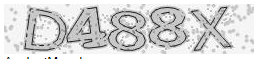4: (66, 6, 108, 53)
8: (107, 9, 148, 53), (147, 6, 188, 50)
D: (23, 6, 67, 53)
X: (187, 5, 238, 53)
